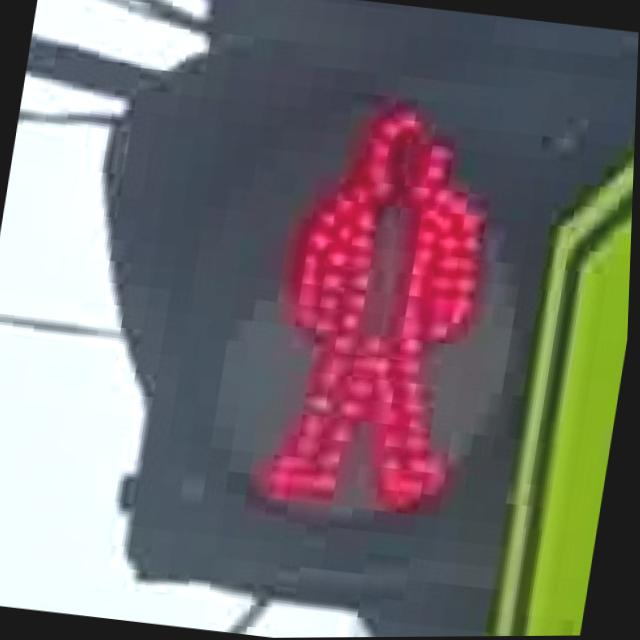red_light: (209, 58, 543, 559)
